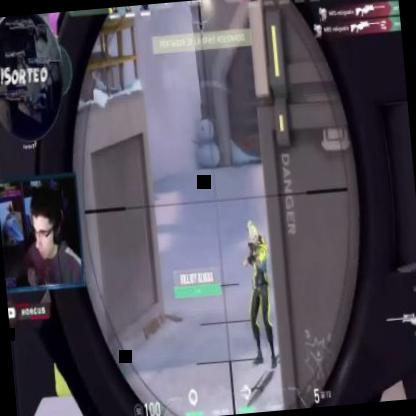enemy: (238, 218, 279, 370)
enemy_head: (245, 220, 260, 248)
